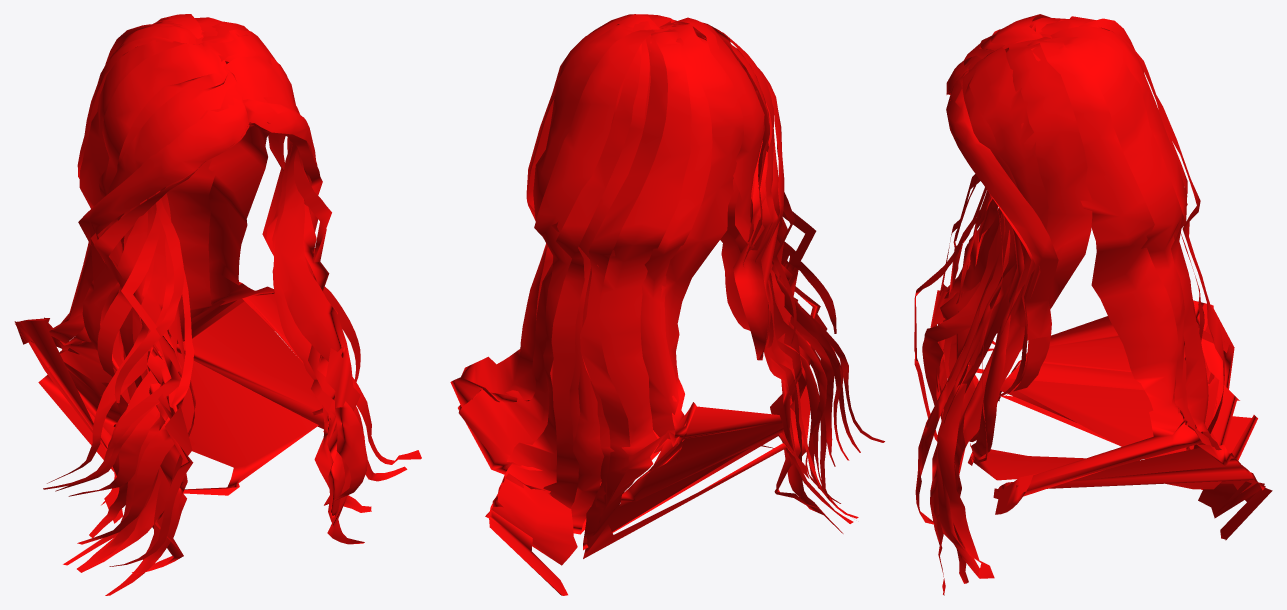
Rendered from elvs_hazel_hair_F.glb.
The picture shows the model from 3 angles, left to right: view 1: azimuth 30°, elevation 25°; view 2: azimuth 150°, elevation 25°; view 3: azimuth 270°, elevation 25°; orthographic projection. The views are drawn at different scales.
Size of the model in its own units: 0.4476 by 0.5626 by 0.3569.
Materials: 1 (1 with a texture image).
